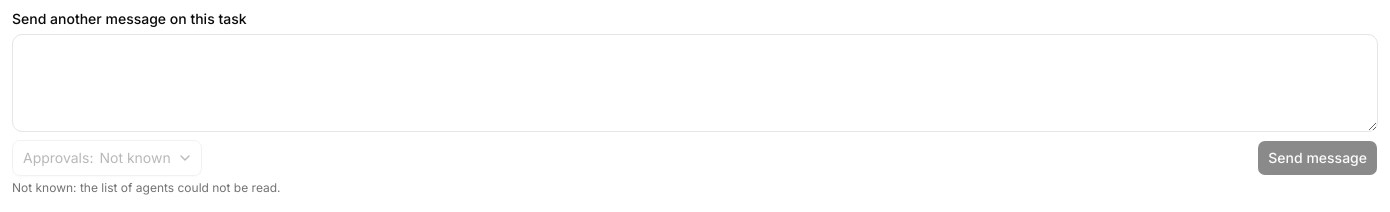
the follow-up box › sends a message on the same task and holds its run, with the conversation before it
In the text box labelled "Send another message on this task": (695, 83) [12,34,1378,132], type "And the week before?"
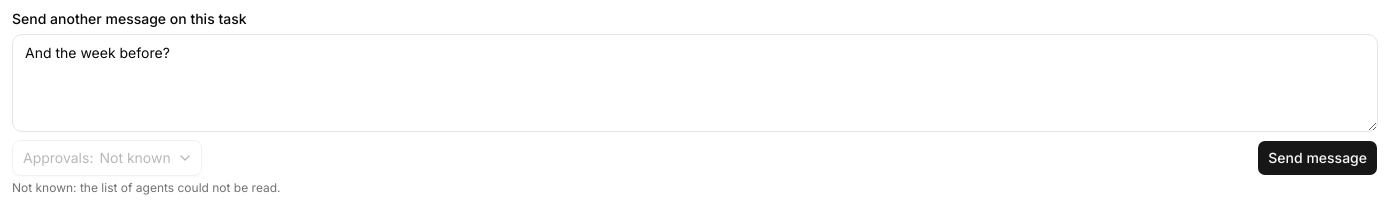
Click the button "Send message": (1318, 158) [1257,140,1378,176]
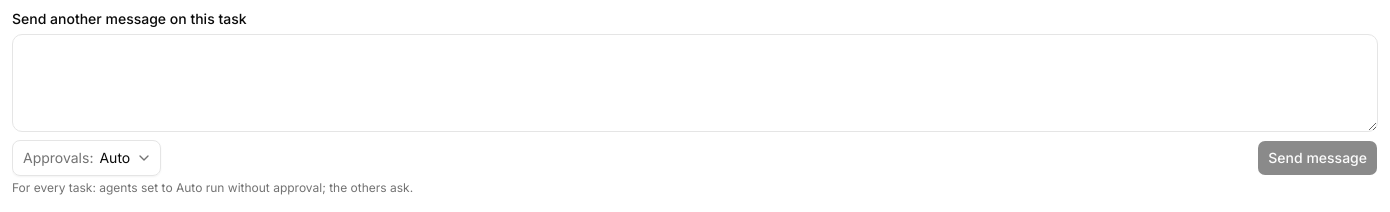
Now the text box labelled "Send another message on this task" is empty, box [12,34,1378,132]
